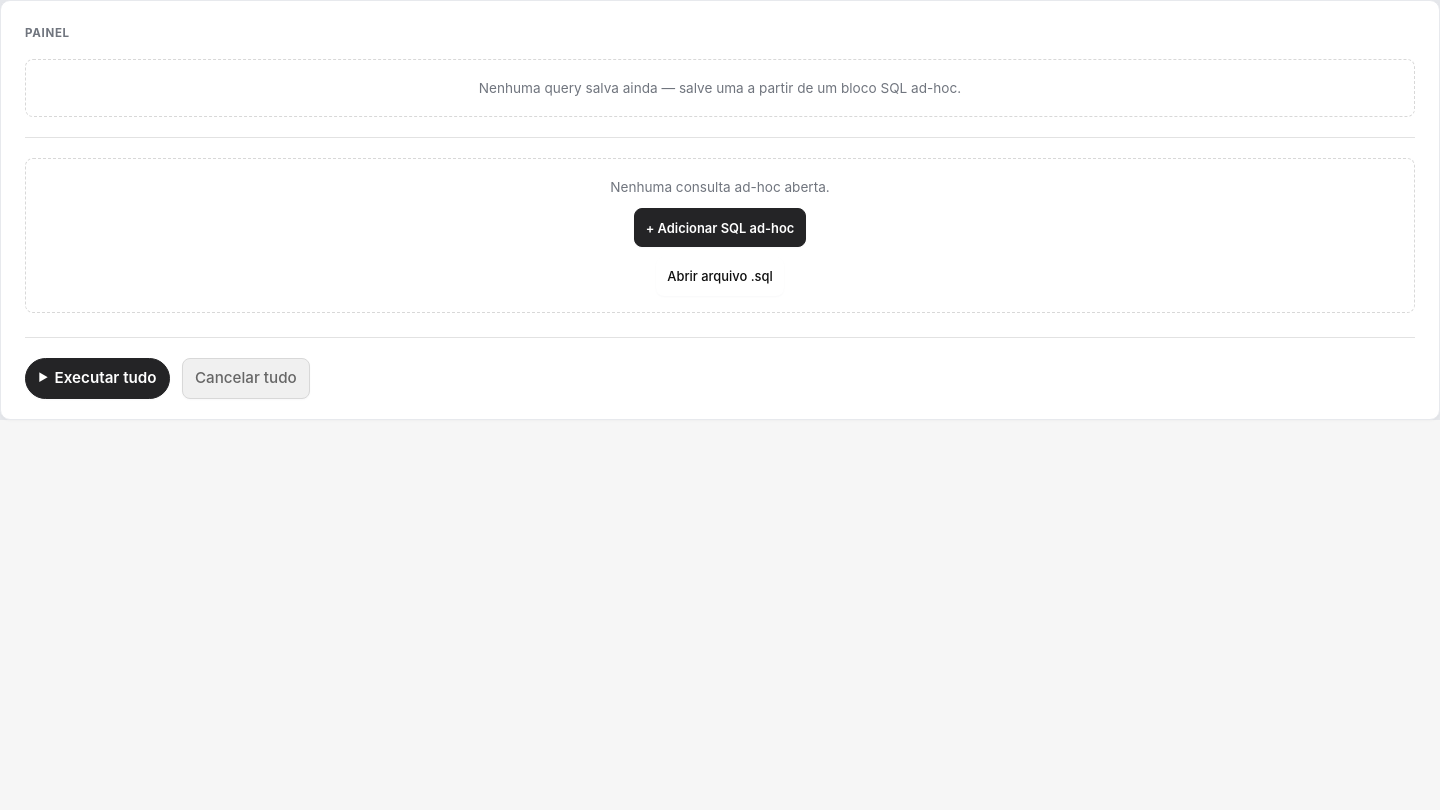
Test: Board › abrir arquivo .sql do disco › opens a second tab from the AdhocTabs toolbar button, without touching the first tab's count
Click the button "+ Adicionar SQL ad-hoc" at (720, 228), box [634,208,806,247]
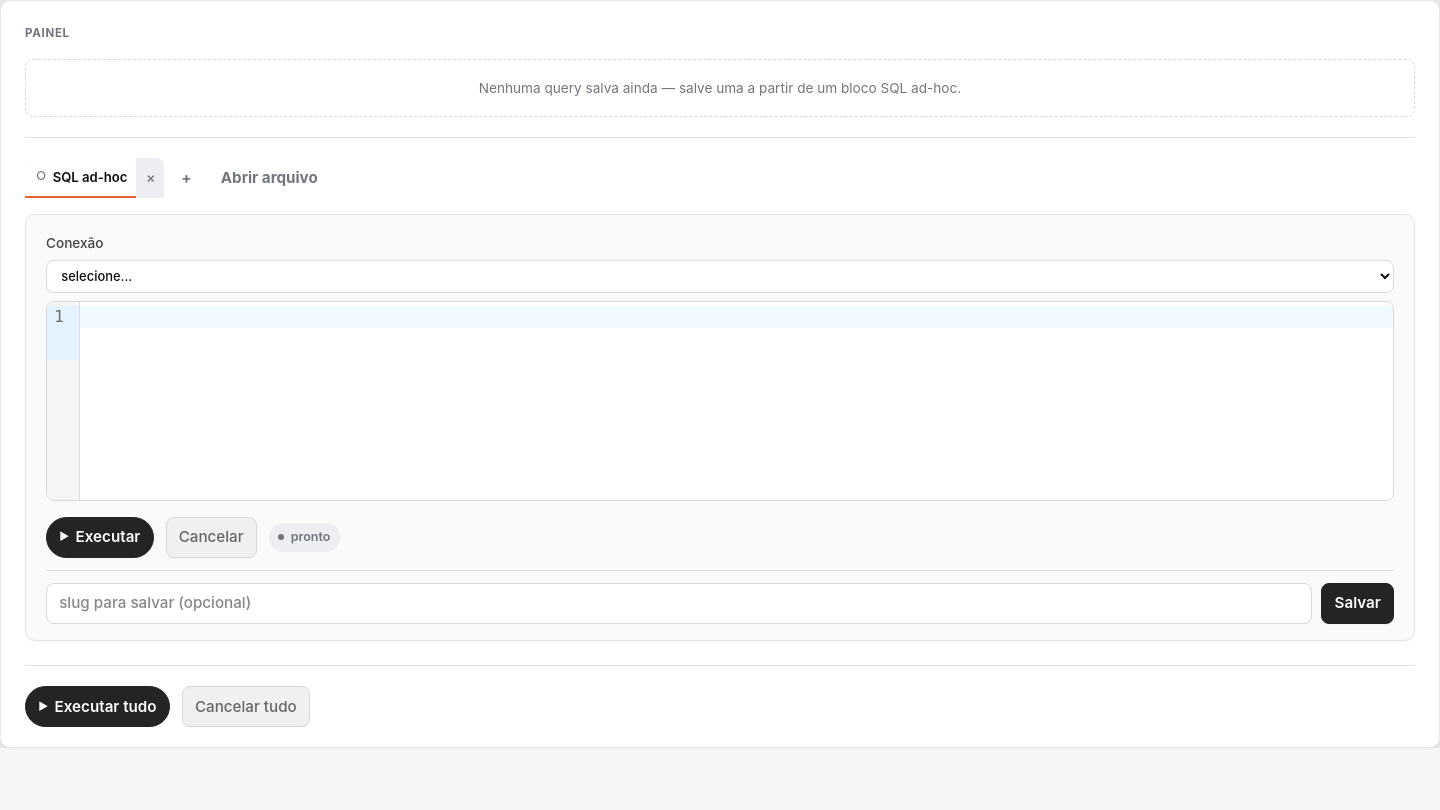
Expected: the number of tabs is 1, [25,158,136,198]
Click the button "Abrir arquivo" at (269, 178), box [209,158,330,197]
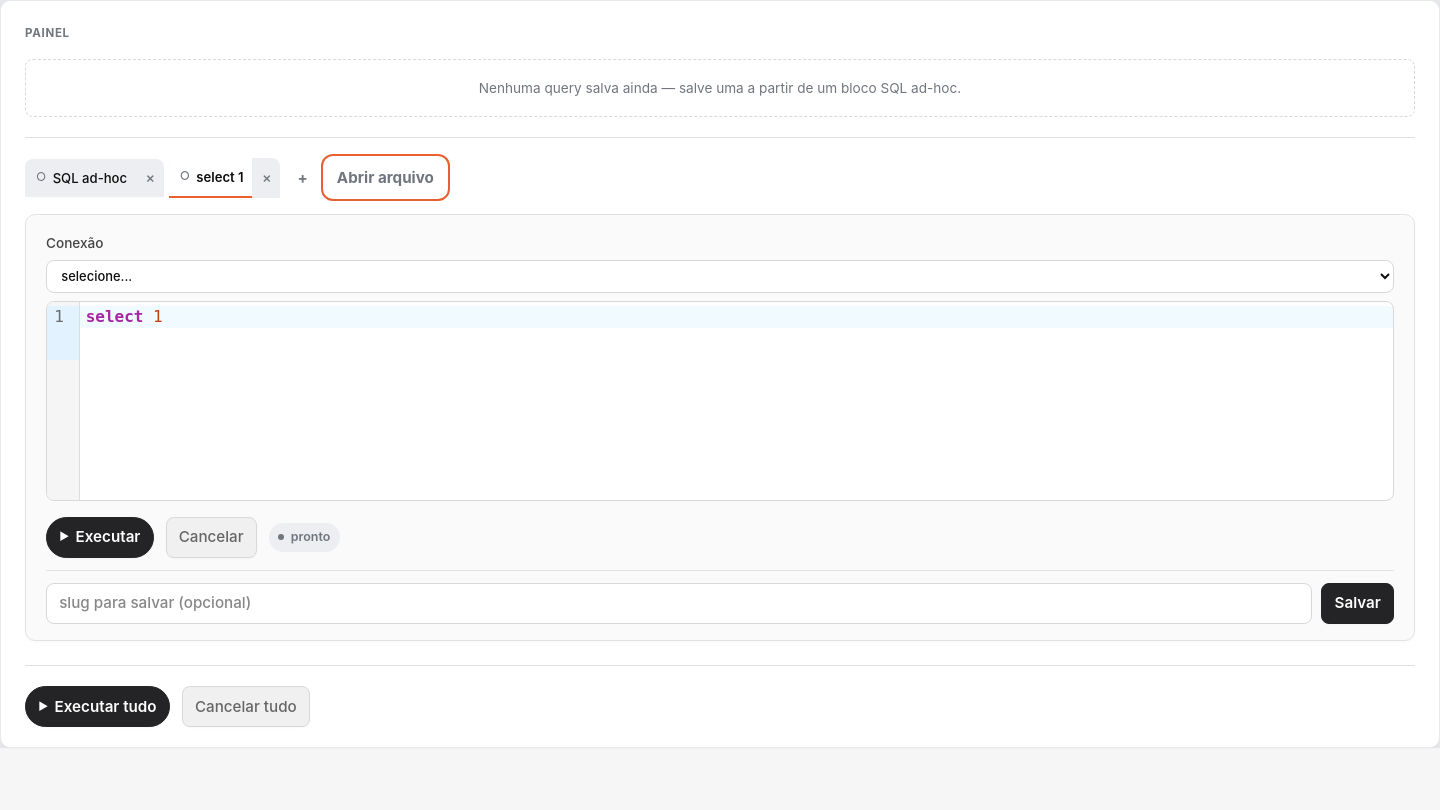
Expected: the number of tabs is 2, [25,159,135,197]; [169,158,252,198]
